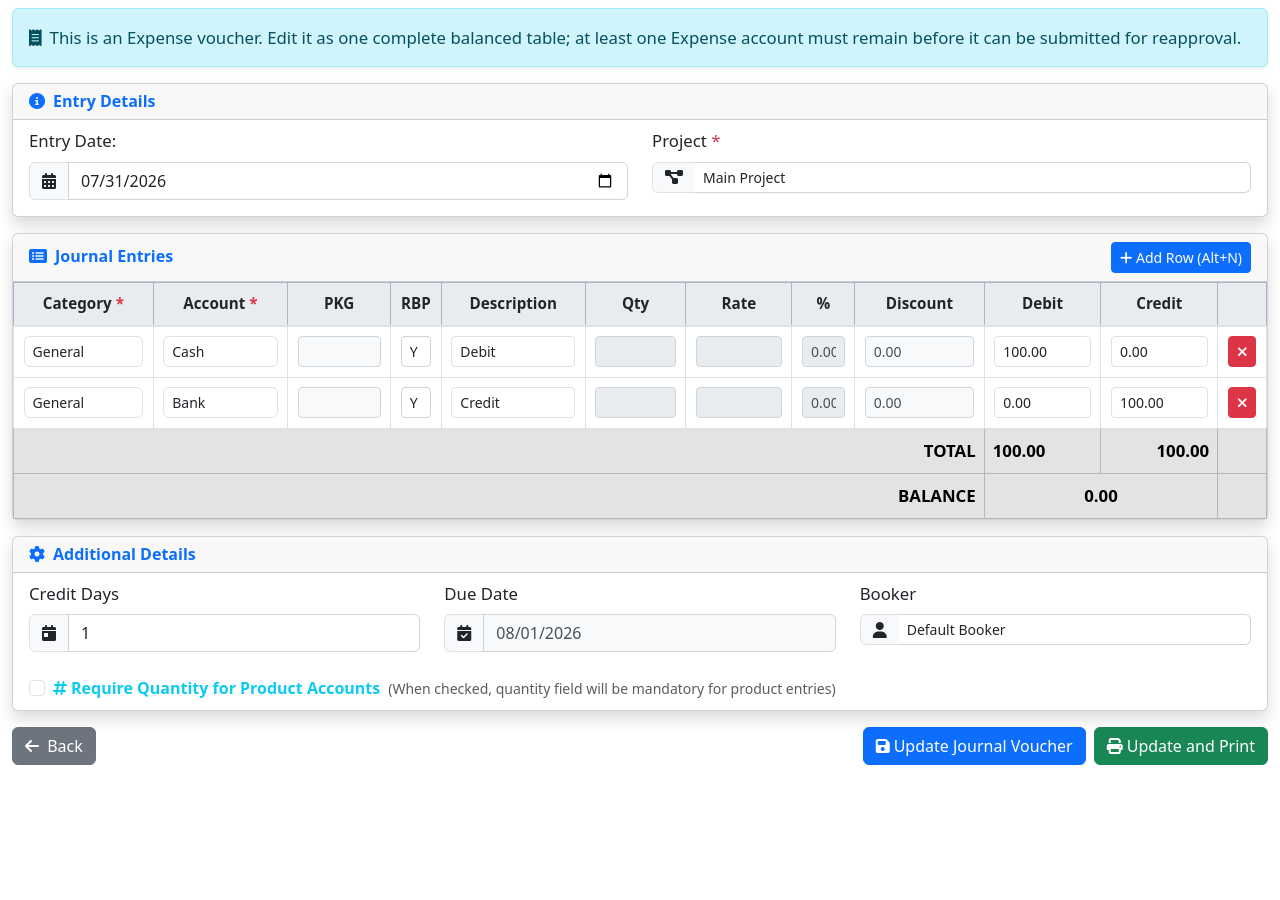
Test: Expense full-voucher revision › prompts and does not submit when the final Expense account has been removed
Expected: the text "This is an Expense voucher" is shown, [50,26,1241,49]
Click the button "Update Journal Voucher" at (974, 746), box [863,727,1086,765]
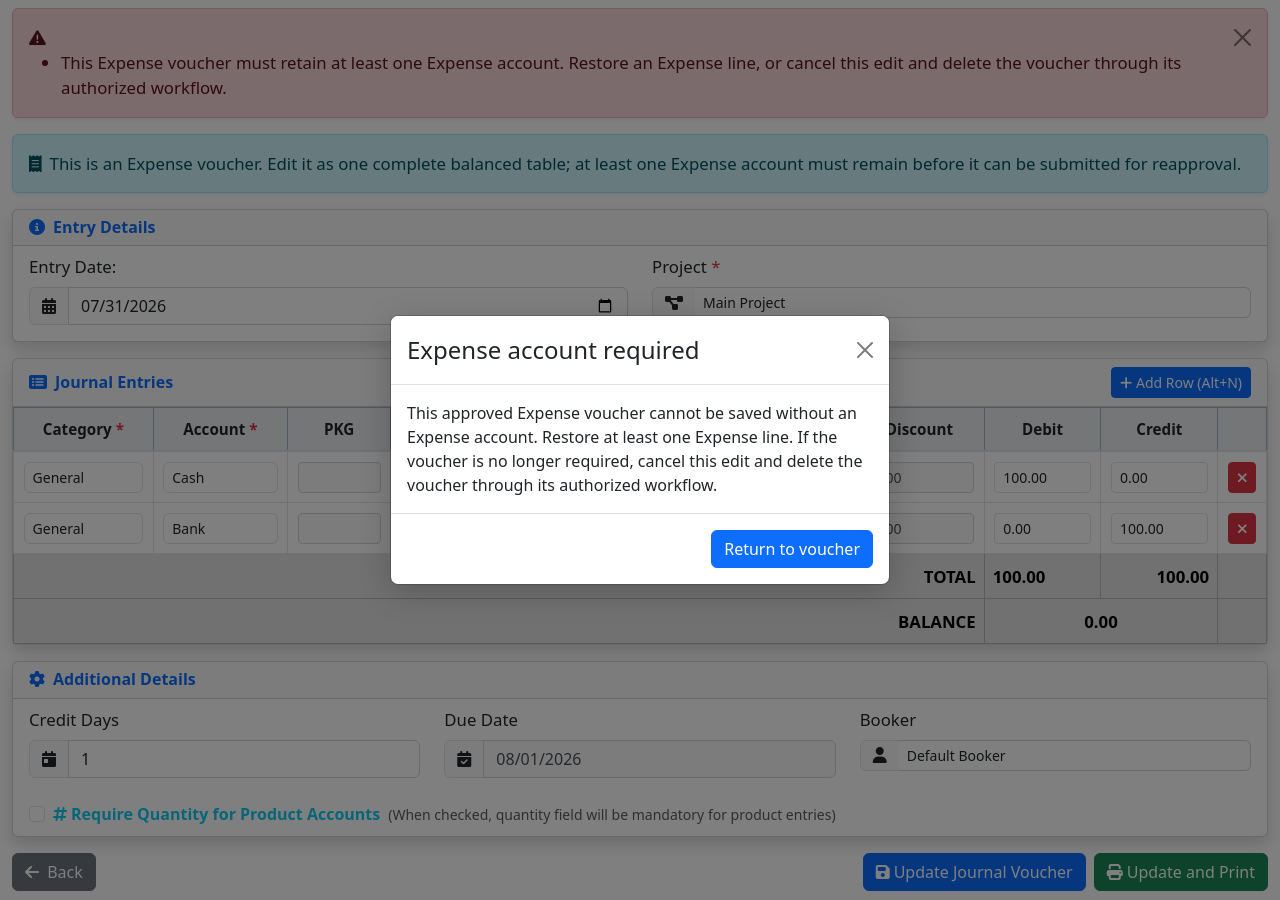
Expected: the text "Expense account required" is shown, [407,332,700,368]
Expected: the list item "must retain at least one Expense account" is shown, [61,51,1181,99]
